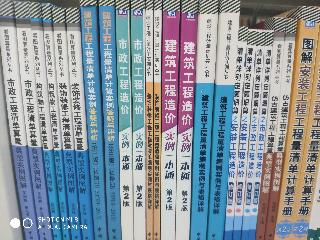book-spine: (271, 6, 320, 240), (0, 0, 38, 240), (14, 1, 52, 239), (205, 1, 240, 240), (29, 3, 61, 239), (264, 19, 298, 240), (188, 0, 219, 240), (285, 38, 320, 240), (255, 18, 286, 240), (42, 4, 70, 239), (66, 9, 94, 240), (173, 0, 199, 240), (81, 1, 107, 239), (54, 8, 80, 239), (248, 31, 273, 240), (159, 1, 180, 240), (100, 1, 121, 239), (242, 31, 265, 240), (225, 27, 247, 240), (234, 30, 256, 240), (117, 1, 133, 239), (132, 0, 145, 239), (154, 1, 161, 239), (147, 0, 153, 239)
